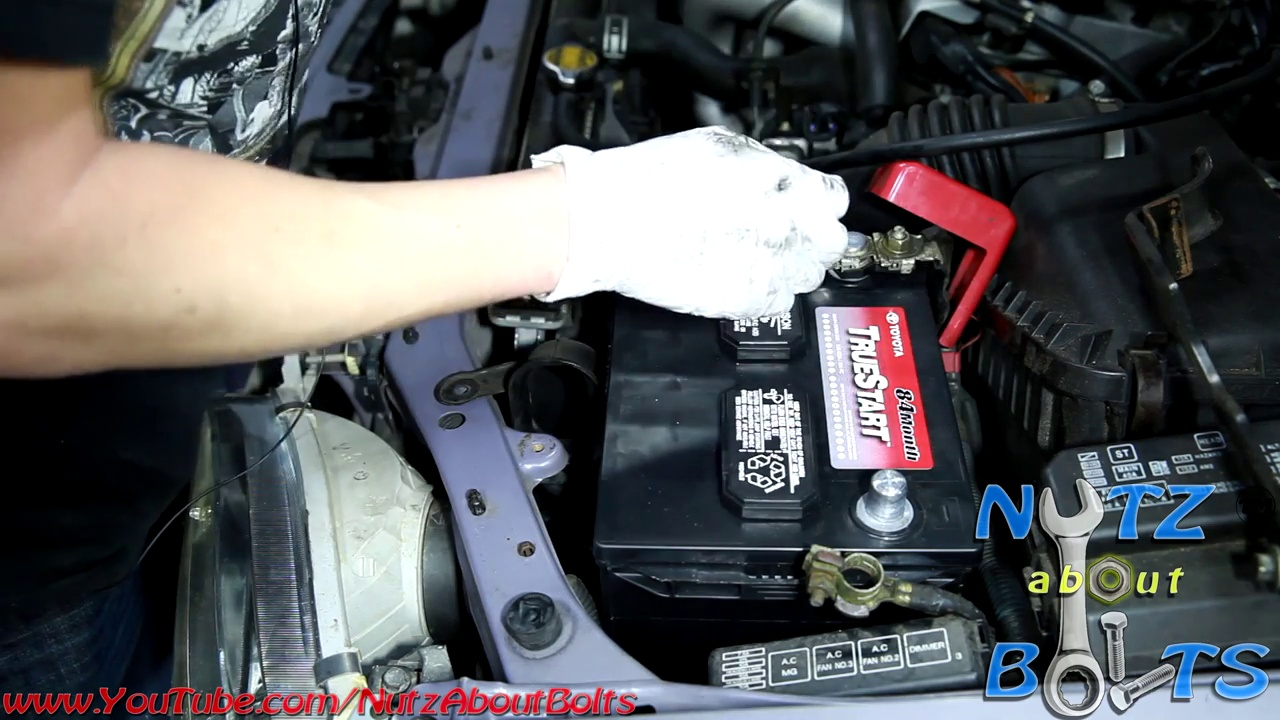battery: (598, 205, 1009, 612)
neg_disconnected: (808, 462, 934, 628)
pos_connected: (834, 207, 988, 290)
pos_touched: (719, 143, 1009, 317)
